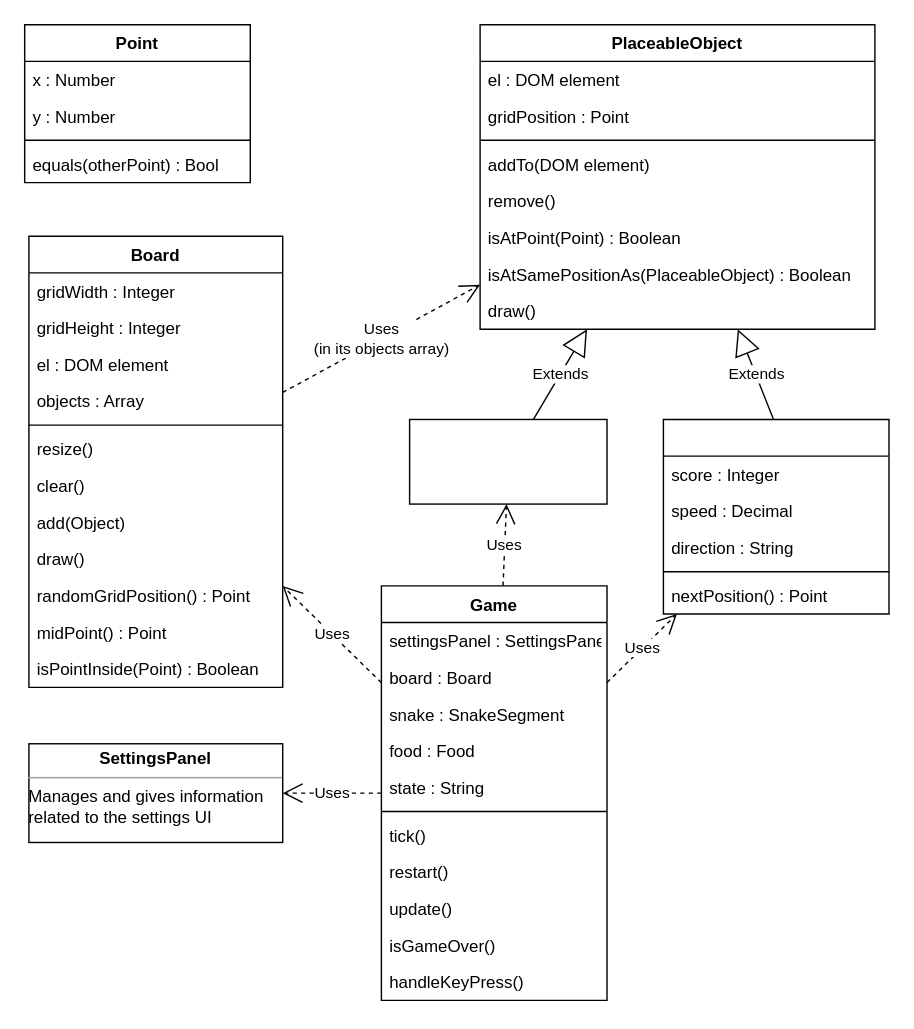
Some shapes in this 914 by 1029 pixel diagram are drawn without their labels. The box of each missing label's shape, as (x1, y1, x2, y2) in pixels:
Food: (408, 418, 607, 504)
SnakeSegment: (662, 418, 889, 614)
